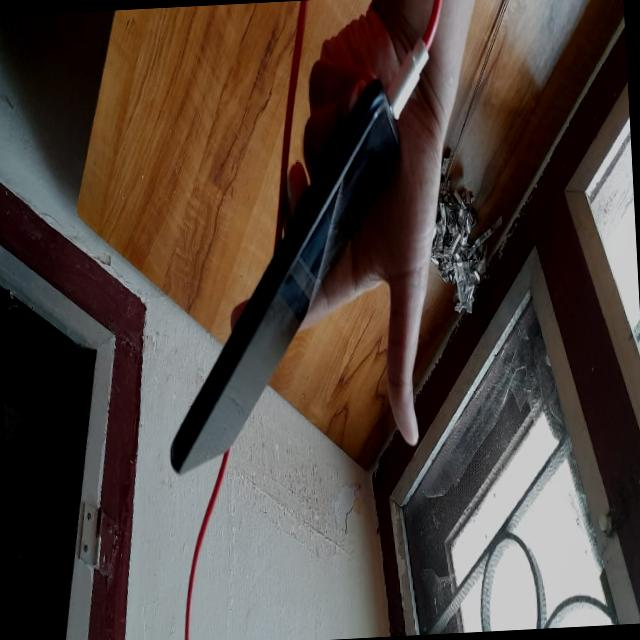Mobile - Recyclable: (142, 60, 428, 495)
